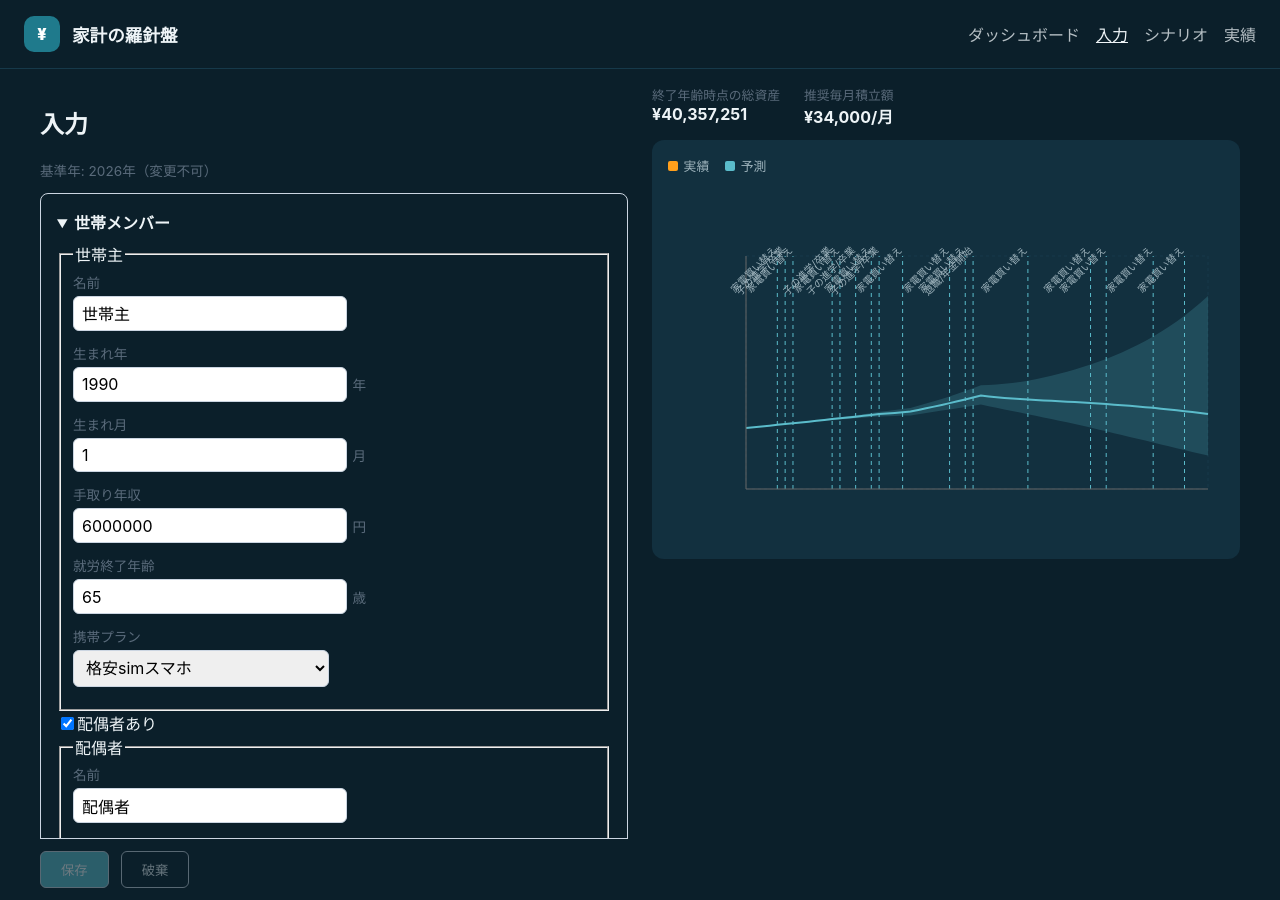
InputPage integration › edits, previews, saves, and reflects on the dashboard
Replace the text in the number field labelled "手取り年収" with "12000000" at (210, 526), box [73,508,347,543]
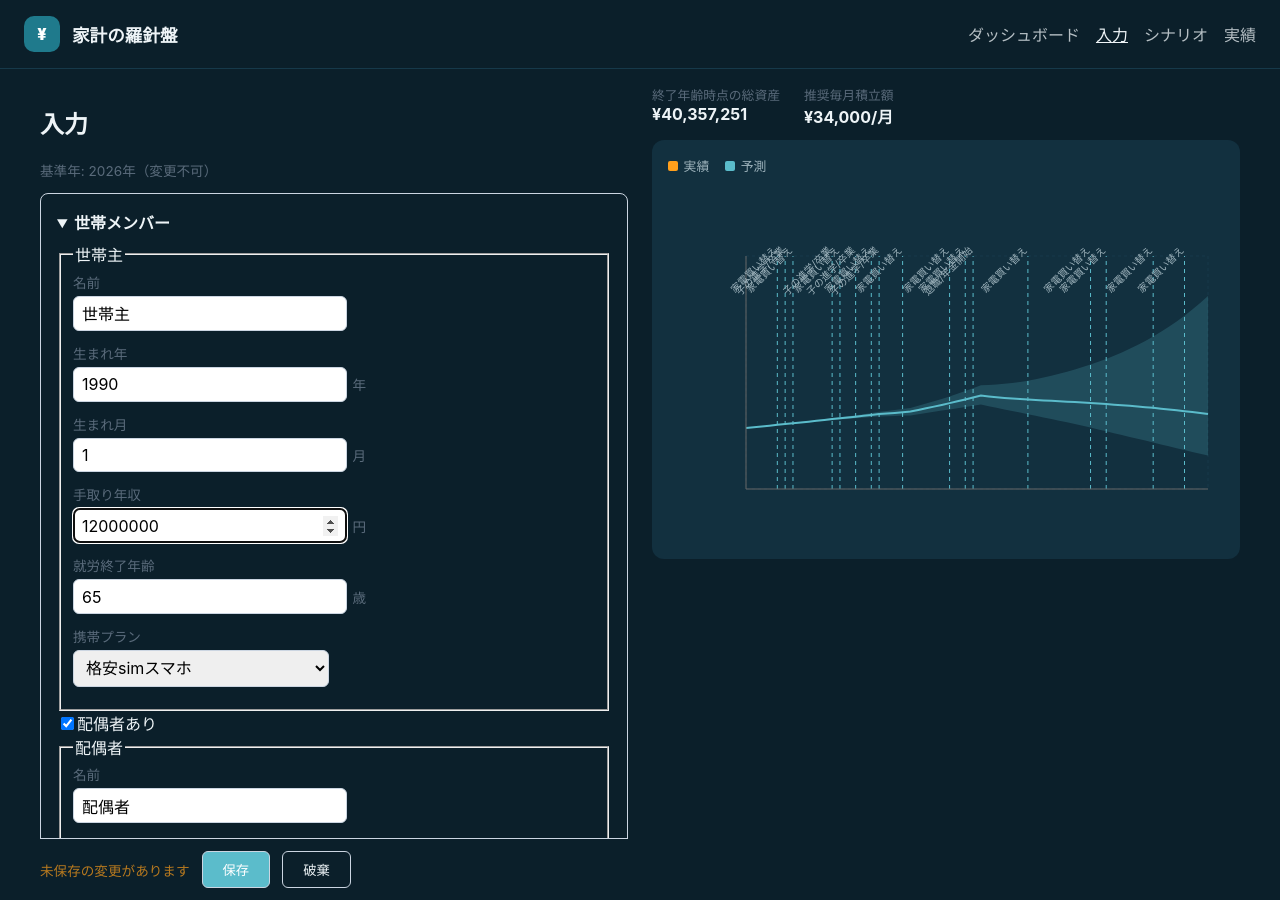
Expected: the element named "プレビュー" is shown, [652,85,1240,559]
Click the button "保存" at (236, 870), box [202,851,270,888]
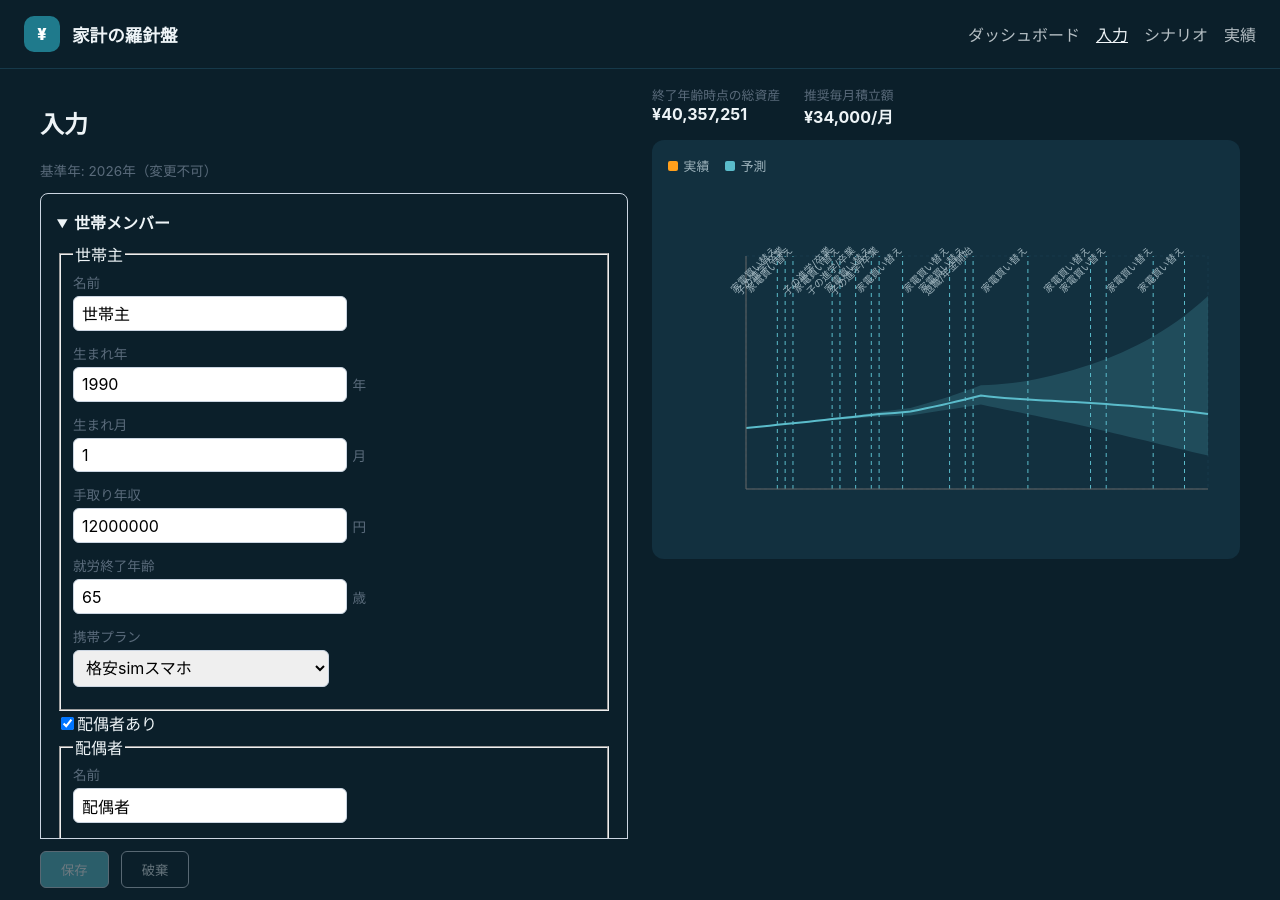
Click the link "ダッシュボード" at (1024, 34), box [968,22,1080,46]
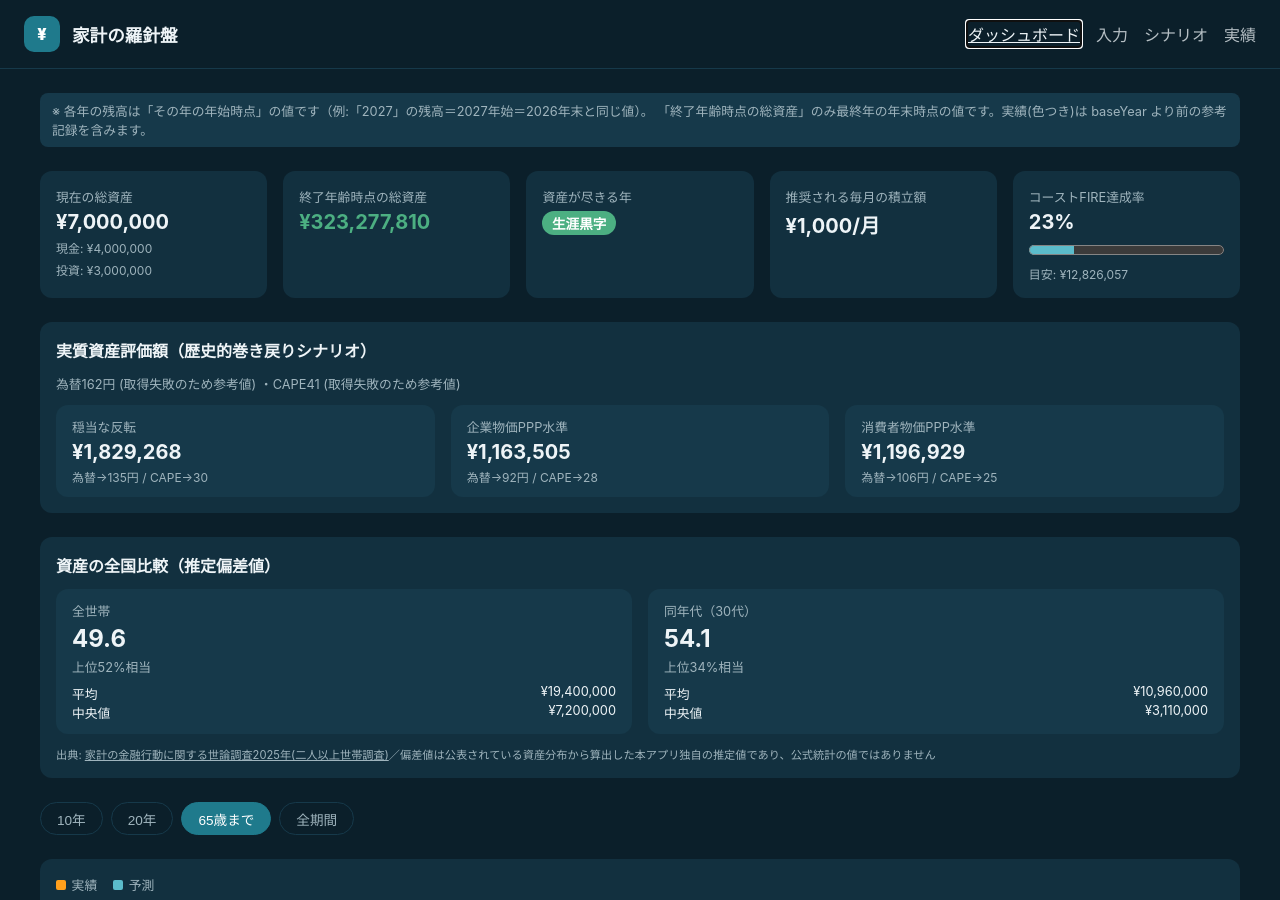
Expected: the text "現在の総資産" is shown, [56,190,133,205]
